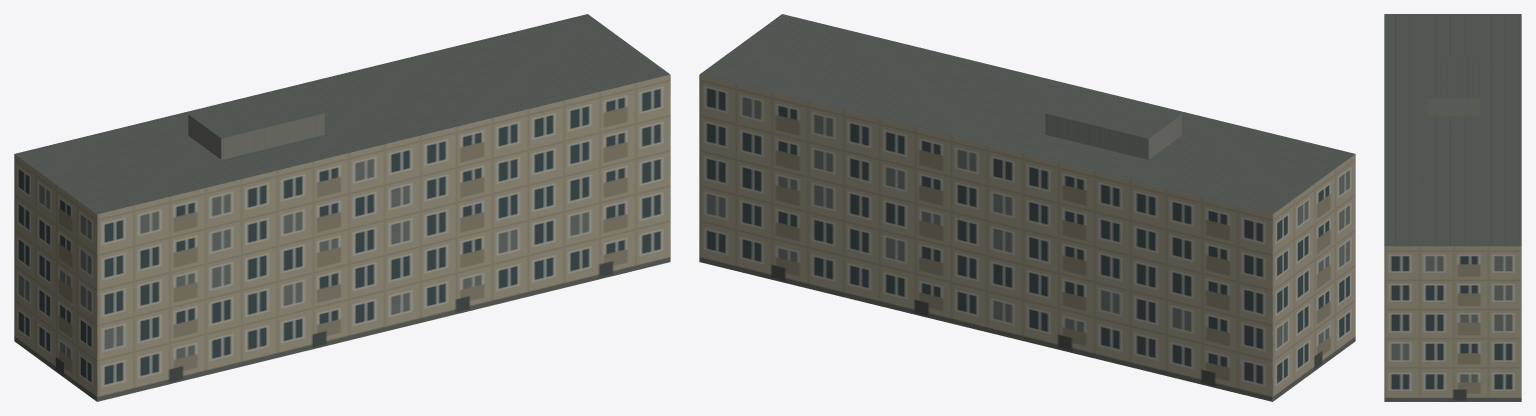
Rendered from kyiv_khrushchyovka_01.obj.
3 views of the same model, side by side, from view 1: azimuth 30°, elevation 25°; view 2: azimuth 150°, elevation 25°; view 3: azimuth 270°, elevation 25° (orthographic). The views are drawn at different scales.
Visible parts, largest first — view 1: kyiv_khrushchyovka_01; view 2: kyiv_khrushchyovka_01; view 3: kyiv_khrushchyovka_01.
Part boxes in pixels (box(x1,y1,x2,y2)): kyiv_khrushchyovka_01: box(14, 14, 670, 401); kyiv_khrushchyovka_01: box(699, 14, 1355, 401); kyiv_khrushchyovka_01: box(1384, 14, 1521, 401).
Size of the model in its own units: 48 by 16.7 by 12.
Materials: 1 (1 with a texture image).
